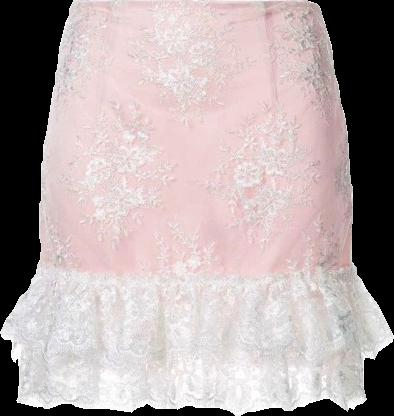Hemline: (0, 332, 393, 370), (16, 397, 366, 414)
Waistline: (35, 262, 355, 281), (72, 0, 314, 15)
